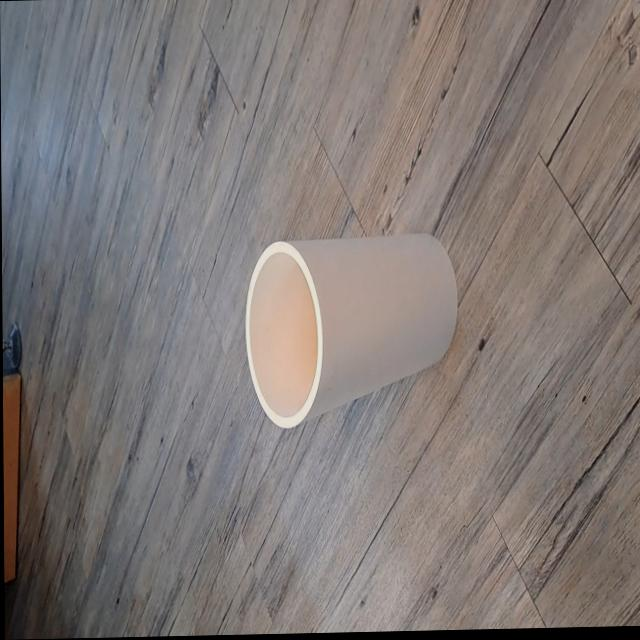CORAL: (222, 180, 480, 460)
